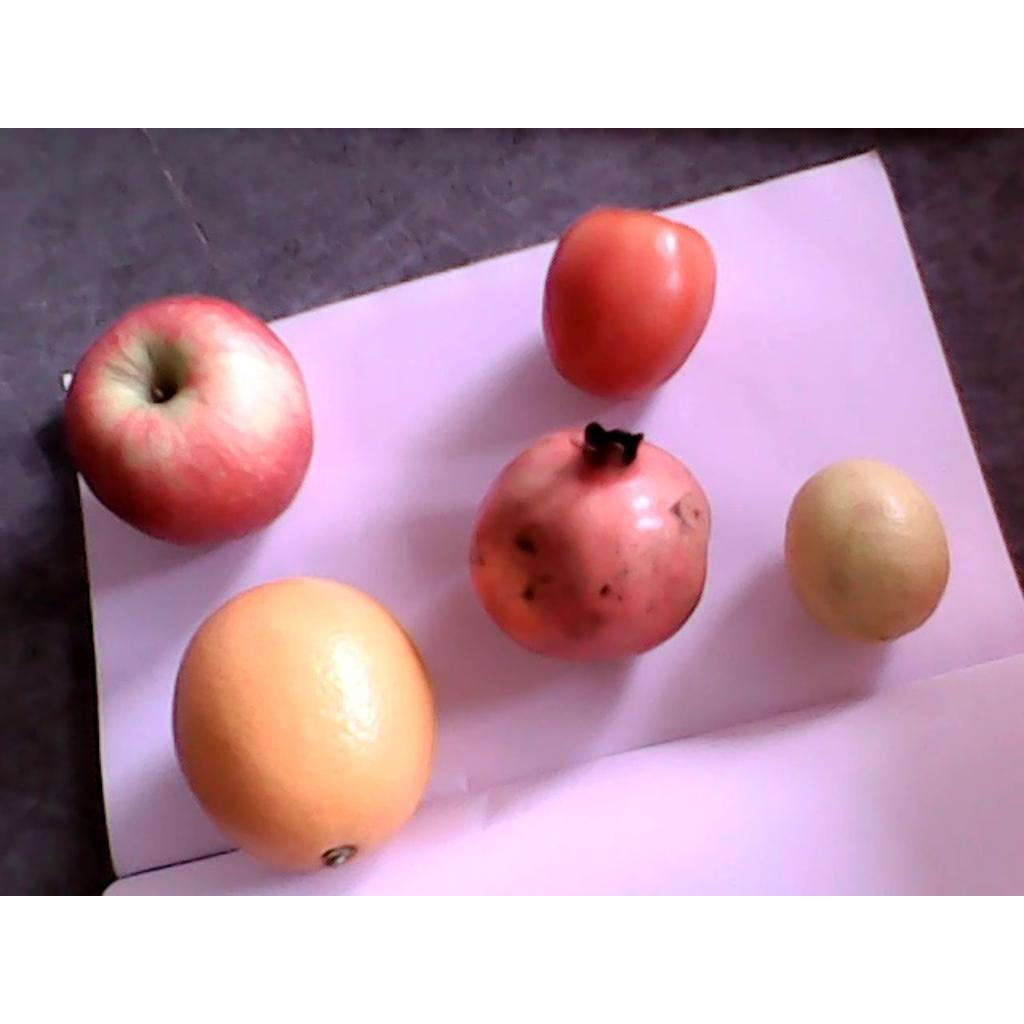apple: (65, 296, 312, 549)
lemon: (786, 461, 949, 645)
orange: (173, 576, 436, 873)
pomegranate: (467, 422, 710, 662)
tomato: (542, 208, 716, 400)
